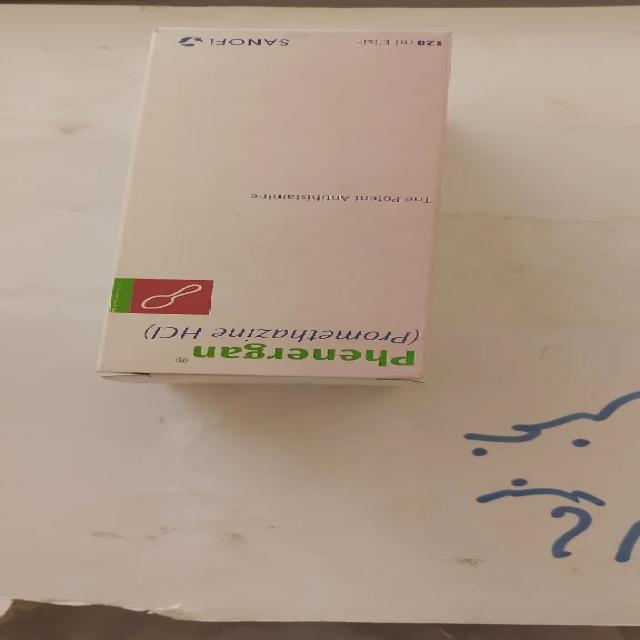drug-name: (193, 342, 417, 369)
